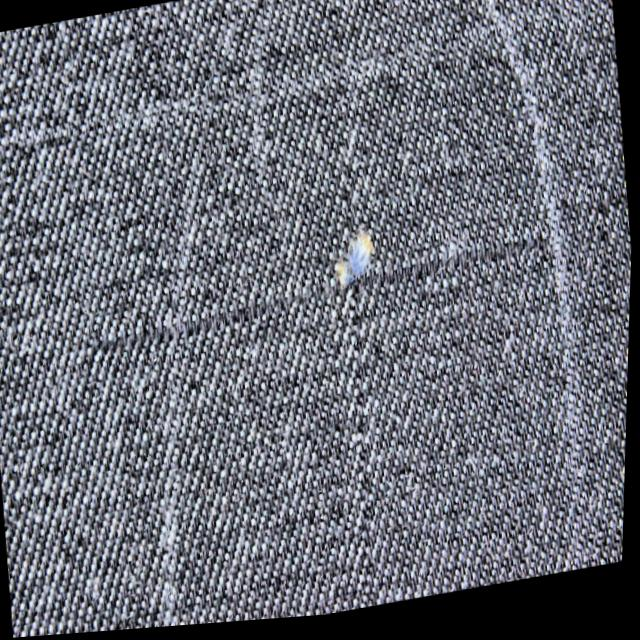Stitch: (310, 210, 394, 309)
